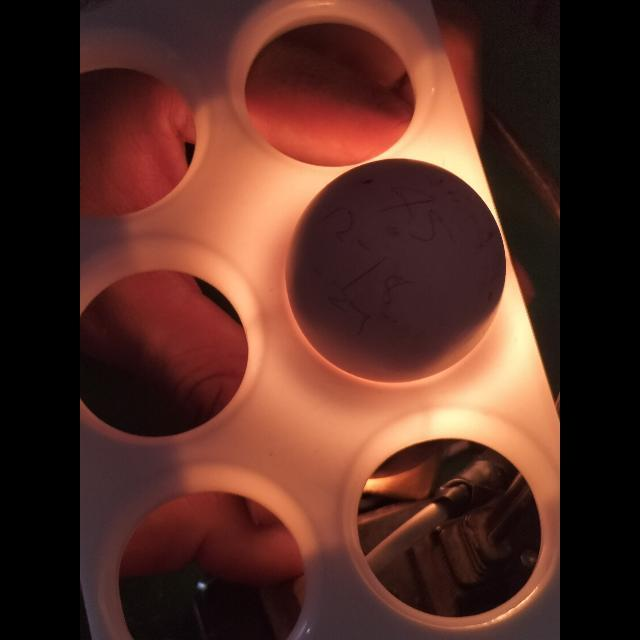Fertile: (284, 153, 508, 381)
